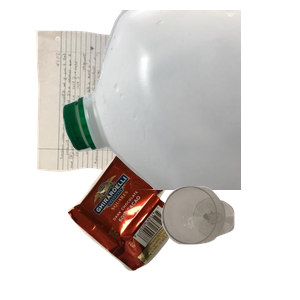glass: (159, 184, 300, 300)
paper: (32, 28, 249, 196)
plastic: (60, 10, 300, 190)
trash: (65, 145, 242, 300)
